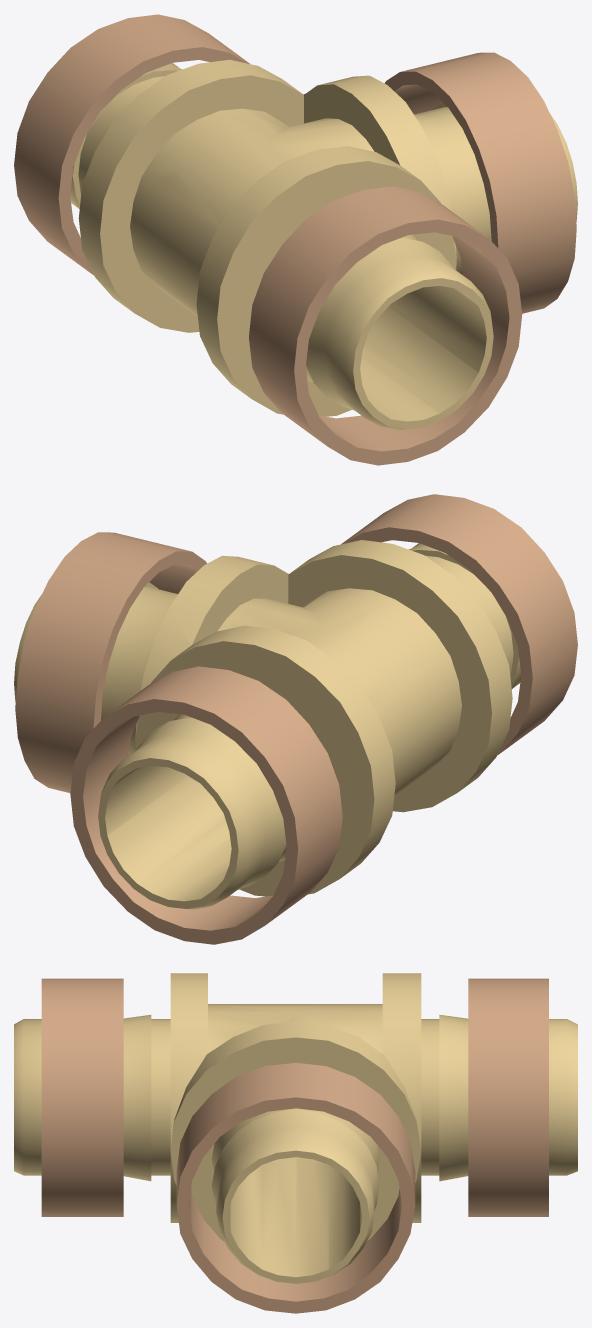
The model's file is pipes_supply__water_heater__aaba956e.glb.
3 renders of one model, top to bottom at view 1: azimuth 30°, elevation 25°; view 2: azimuth 150°, elevation 25°; view 3: azimuth 270°, elevation 25°, orthographic. The views are drawn at different scales.
Parts seen in each view (by area): view 1: fit_tee_pipe_supply_cold_wh_etankless__pex; view 2: fit_tee_pipe_supply_cold_wh_etankless__pex; view 3: fit_tee_pipe_supply_cold_wh_etankless__pex.
Part boxes in pixels (x1,y1,x2,y2): fit_tee_pipe_supply_cold_wh_etankless__pex: (14, 14, 577, 465); fit_tee_pipe_supply_cold_wh_etankless__pex: (14, 494, 577, 944); fit_tee_pipe_supply_cold_wh_etankless__pex: (14, 973, 577, 1313).
Size of the model in its own units: 0.0413 by 0.0254 by 0.0571.
